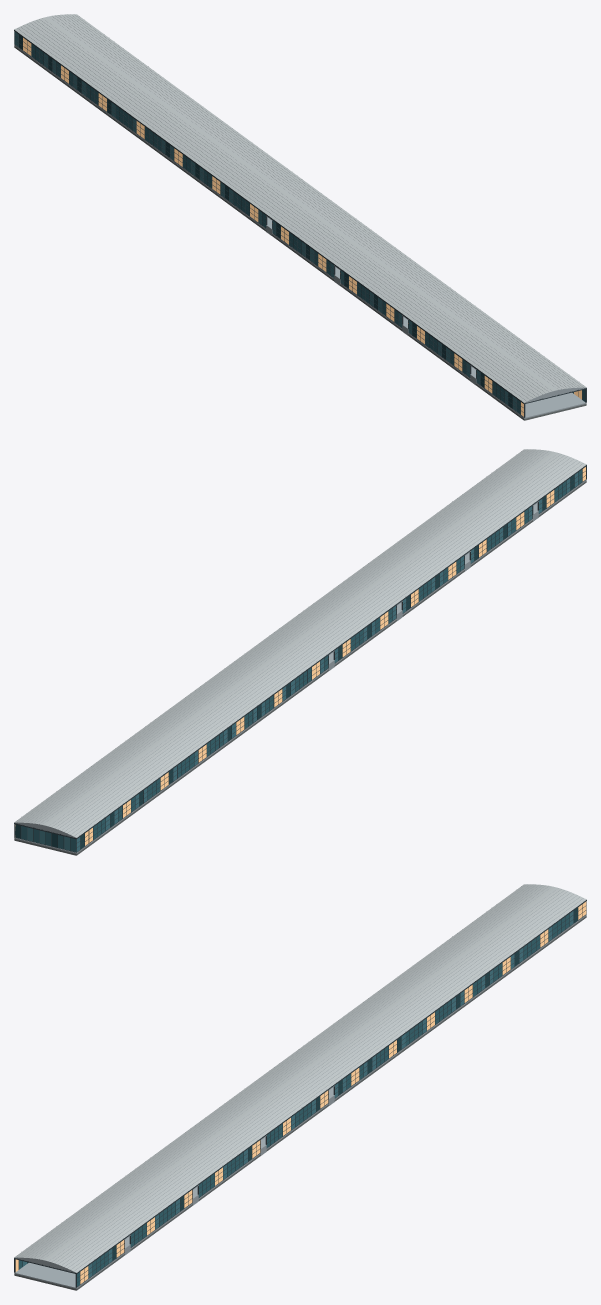
File: TNG_pier.glb
3 renders of one model, top to bottom at view 1: azimuth 30°, elevation 25°; view 2: azimuth 150°, elevation 25°; view 3: azimuth 330°, elevation 25°, orthographic.
Visible parts, largest first — view 1: TNG_pier; view 2: TNG_pier; view 3: TNG_pier.
Part boxes in pixels (x1,y1,x2,y2): TNG_pier: (14,14,586,420); TNG_pier: (14,449,586,855); TNG_pier: (14,884,586,1290).
Size of the model in its own units: 32 by 11 by 450.
10 materials, 10 textured.
